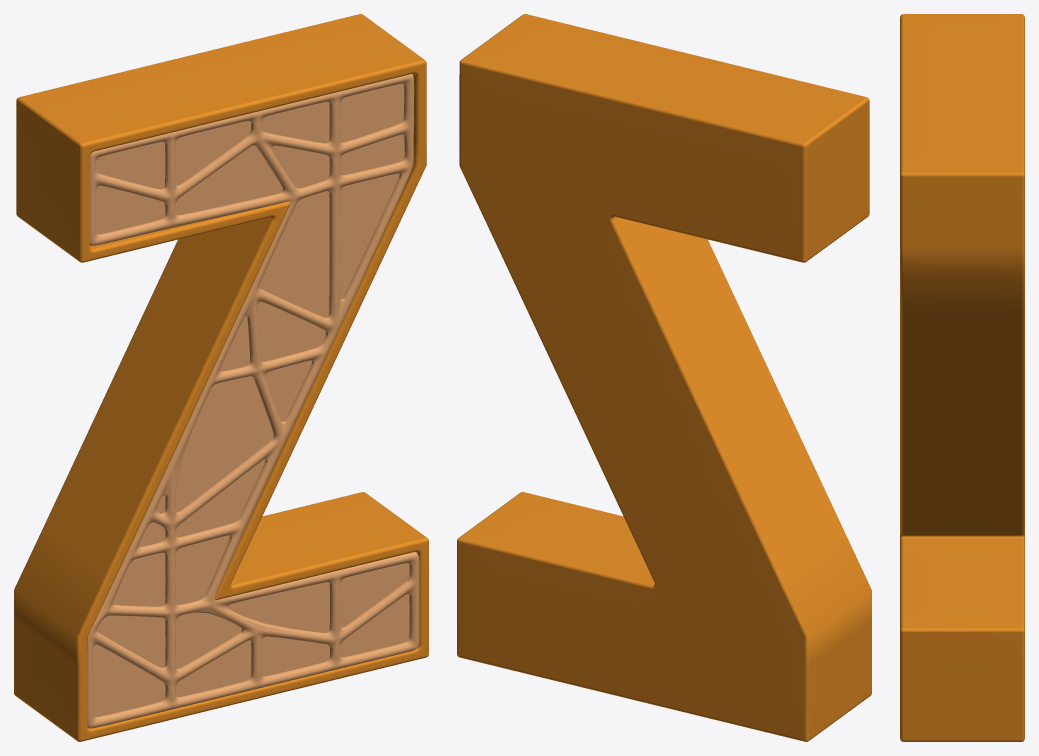
File: Z_nuevo.glb
3 views of the same model, side by side, from view 1: azimuth 30°, elevation 25°; view 2: azimuth 150°, elevation 25°; view 3: azimuth 270°, elevation 25° (orthographic). The views are drawn at different scales.
Visible parts, largest first — view 1: Text.025, Plane.053, Plane.060; view 2: Text.025; view 3: Text.025.
Boxes of the visible parts, <box> form: Text.025: <box>14,14,428,741</box>; Plane.053: <box>92,83,409,716</box>; Plane.060: <box>87,74,419,728</box>; Text.025: <box>457,14,871,741</box>; Text.025: <box>900,14,1024,741</box>.
Bounding box in the file's own units: 3.08 × 5 × 0.9948.
